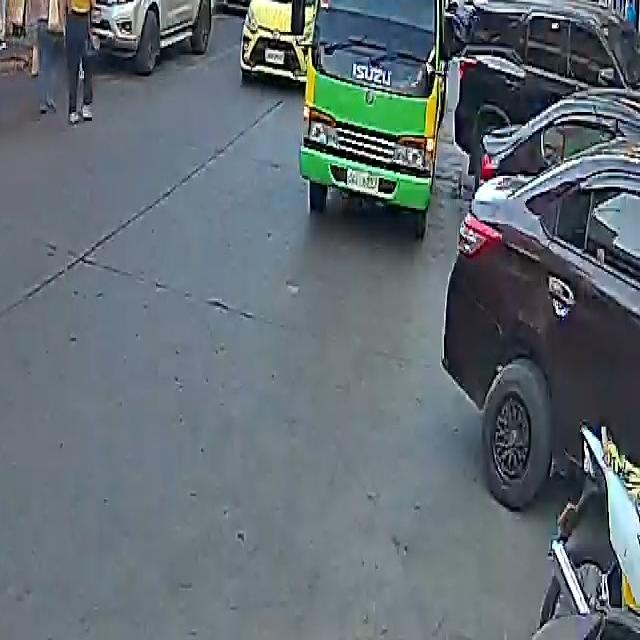car: (444, 56, 640, 536), (94, 0, 224, 66), (217, 0, 282, 16)
